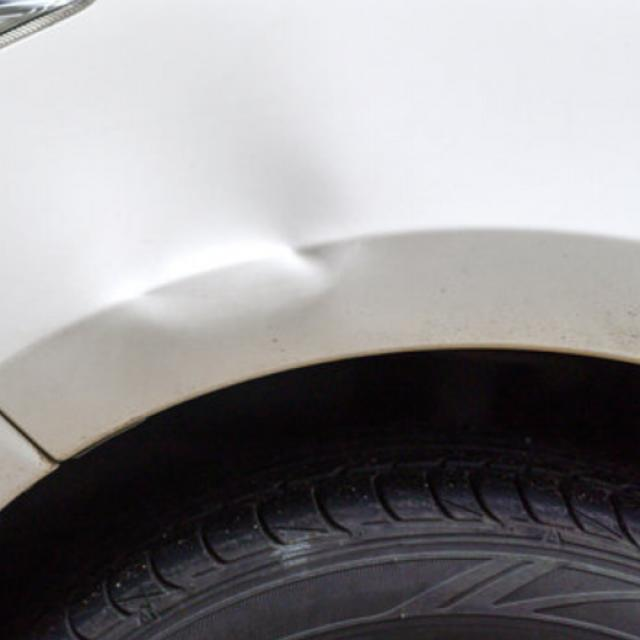dents: (109, 167, 385, 347)
